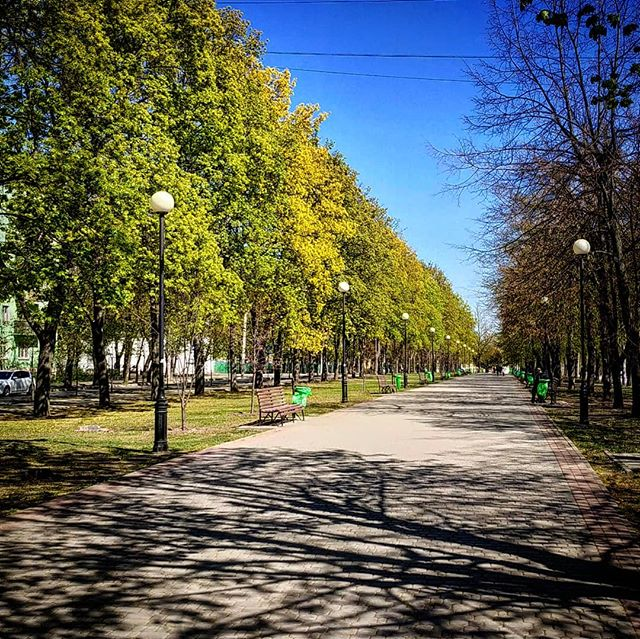bench: (248, 378, 316, 428)
light pole: (137, 179, 187, 460), (571, 231, 597, 432), (329, 274, 358, 410)
sky: (297, 1, 484, 259)
vegetation: (1, 1, 487, 375), (502, 1, 640, 401)
